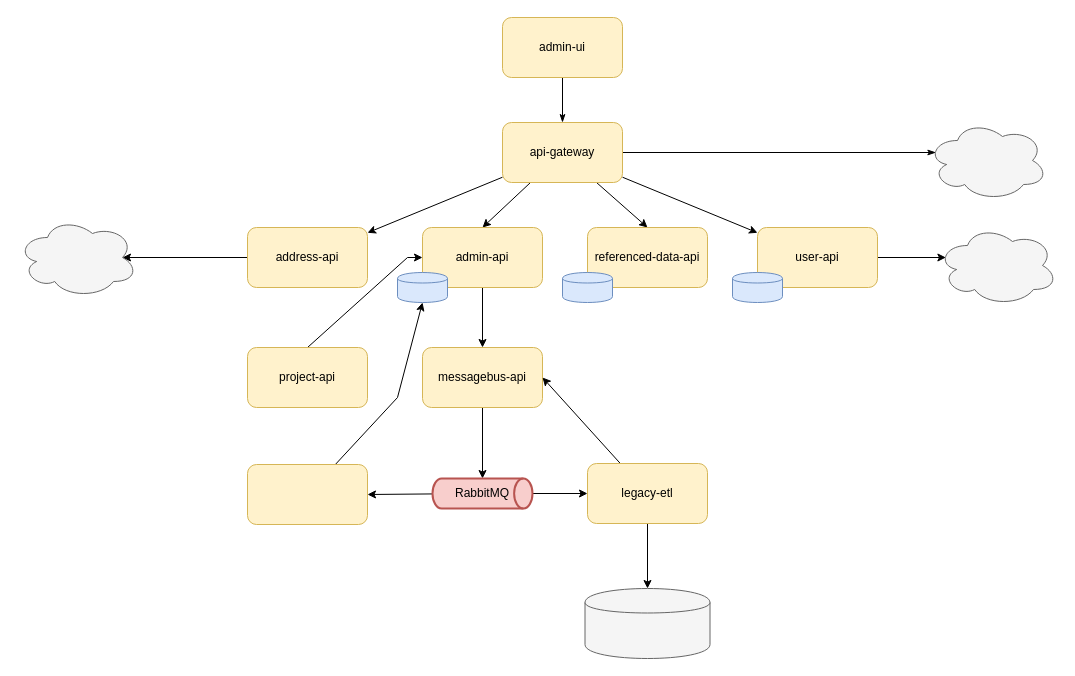
Image size: 1075x676. Some labels were removed from this diagram. The centre of each missing label's shape, as x and y in pixels:
"google geo api" goes at point 77,257.
"media-api" goes at point 987,160.
"metadata-sync" goes at point 307,494.
"propertyDB" goes at point 647,623.
"UMS" goes at point 997,265.
